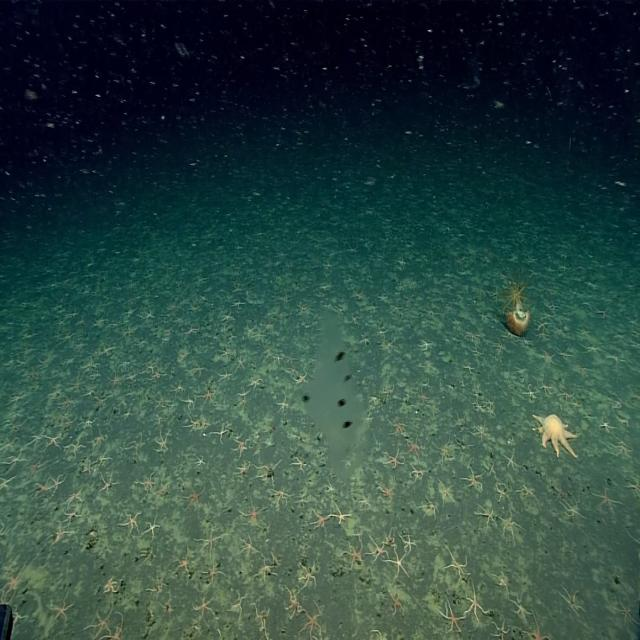brittle-stars: (463, 586, 486, 622), (197, 526, 223, 556), (50, 592, 74, 624), (441, 602, 465, 634), (614, 596, 638, 628), (300, 605, 323, 638), (592, 486, 619, 514), (0, 387, 28, 414), (89, 609, 114, 639), (446, 550, 469, 582), (147, 569, 168, 604), (343, 538, 365, 571), (559, 584, 584, 612), (131, 544, 159, 569), (3, 566, 25, 596), (388, 548, 409, 579), (524, 617, 552, 640), (500, 510, 520, 538), (193, 594, 216, 618), (242, 501, 262, 528), (175, 548, 193, 578), (183, 486, 205, 510), (202, 560, 224, 584), (512, 592, 532, 618), (257, 461, 280, 483), (49, 522, 72, 544), (121, 512, 142, 536), (477, 504, 497, 529), (159, 592, 175, 623), (300, 563, 319, 589), (11, 602, 30, 628), (172, 343, 194, 365), (82, 341, 104, 363), (425, 395, 446, 418), (562, 497, 582, 521), (381, 525, 401, 549), (258, 557, 277, 582), (108, 615, 127, 640), (230, 590, 248, 616), (462, 466, 483, 488), (31, 478, 53, 499), (55, 328, 76, 350), (369, 536, 388, 560), (286, 588, 302, 616), (440, 479, 457, 505), (383, 447, 403, 469), (4, 450, 26, 470), (239, 533, 257, 557), (332, 504, 352, 525), (99, 471, 117, 494), (255, 606, 272, 630), (24, 458, 44, 478), (420, 496, 438, 518), (139, 473, 157, 495), (492, 618, 510, 640), (407, 436, 424, 459), (389, 590, 404, 616), (144, 516, 160, 540), (379, 478, 395, 502), (169, 373, 185, 397), (128, 436, 146, 457), (502, 449, 519, 471), (0, 435, 19, 454), (272, 487, 290, 507), (200, 387, 218, 407), (613, 442, 634, 459), (49, 474, 66, 495), (104, 574, 121, 595), (154, 479, 170, 501), (311, 510, 329, 529), (66, 489, 84, 508), (67, 438, 85, 457), (471, 422, 488, 442), (114, 352, 135, 368), (64, 508, 83, 525), (212, 422, 228, 442), (624, 478, 640, 498), (400, 531, 415, 552), (0, 474, 15, 495), (494, 570, 509, 591), (518, 484, 536, 501), (116, 389, 131, 409), (538, 378, 554, 396), (539, 348, 555, 366), (441, 440, 453, 464), (491, 338, 507, 356), (26, 429, 42, 447), (534, 316, 550, 334), (157, 432, 170, 454), (234, 438, 249, 457), (134, 333, 149, 352), (606, 352, 625, 367), (94, 430, 108, 450), (556, 346, 573, 362), (45, 434, 61, 451), (155, 392, 171, 409), (225, 329, 240, 347), (390, 419, 405, 437), (583, 342, 602, 356), (454, 412, 467, 432), (96, 452, 112, 468), (69, 376, 85, 392), (411, 464, 426, 481), (235, 461, 251, 476), (277, 392, 289, 412), (292, 456, 307, 472), (83, 358, 99, 373), (632, 529, 640, 559), (523, 383, 537, 400), (111, 370, 125, 387), (185, 415, 199, 432), (572, 362, 589, 376), (190, 361, 205, 376), (422, 363, 437, 378), (599, 418, 614, 433), (60, 394, 75, 409), (418, 338, 434, 352), (248, 376, 262, 392), (82, 414, 96, 430), (484, 460, 497, 477), (594, 306, 611, 319), (371, 629, 391, 640), (358, 492, 370, 510), (418, 386, 430, 404), (218, 369, 232, 384), (119, 408, 134, 422), (182, 394, 195, 410), (554, 484, 567, 500), (102, 341, 115, 357), (185, 323, 199, 337), (294, 372, 308, 386), (560, 388, 574, 402), (462, 360, 476, 374), (471, 398, 485, 412), (194, 290, 208, 304), (383, 339, 398, 352), (82, 462, 94, 478), (496, 485, 508, 501), (150, 366, 163, 380), (578, 325, 592, 338), (94, 314, 108, 327), (425, 306, 438, 320), (124, 323, 137, 337), (219, 346, 231, 361), (63, 414, 75, 429), (97, 392, 109, 407), (381, 380, 392, 396), (237, 354, 247, 371), (393, 301, 406, 314), (126, 370, 139, 383), (235, 384, 247, 398), (466, 332, 480, 344), (469, 347, 483, 359), (285, 351, 296, 366), (295, 493, 306, 508), (246, 321, 257, 336), (221, 312, 234, 324), (405, 292, 417, 305), (362, 412, 373, 426), (265, 318, 276, 332), (485, 394, 496, 408), (153, 413, 164, 427), (169, 300, 180, 314), (200, 416, 210, 431), (378, 290, 390, 302), (352, 288, 364, 300), (126, 306, 138, 318), (365, 302, 377, 314), (296, 304, 308, 316), (86, 386, 98, 398), (570, 397, 582, 409), (196, 455, 207, 468), (234, 297, 247, 308), (144, 309, 155, 322), (350, 313, 361, 326), (325, 482, 335, 496), (280, 292, 291, 304), (188, 303, 199, 315), (233, 282, 244, 294), (360, 335, 370, 348), (368, 393, 378, 406), (265, 344, 274, 358), (174, 314, 185, 325), (378, 325, 388, 337), (302, 321, 313, 331), (487, 407, 496, 418)
